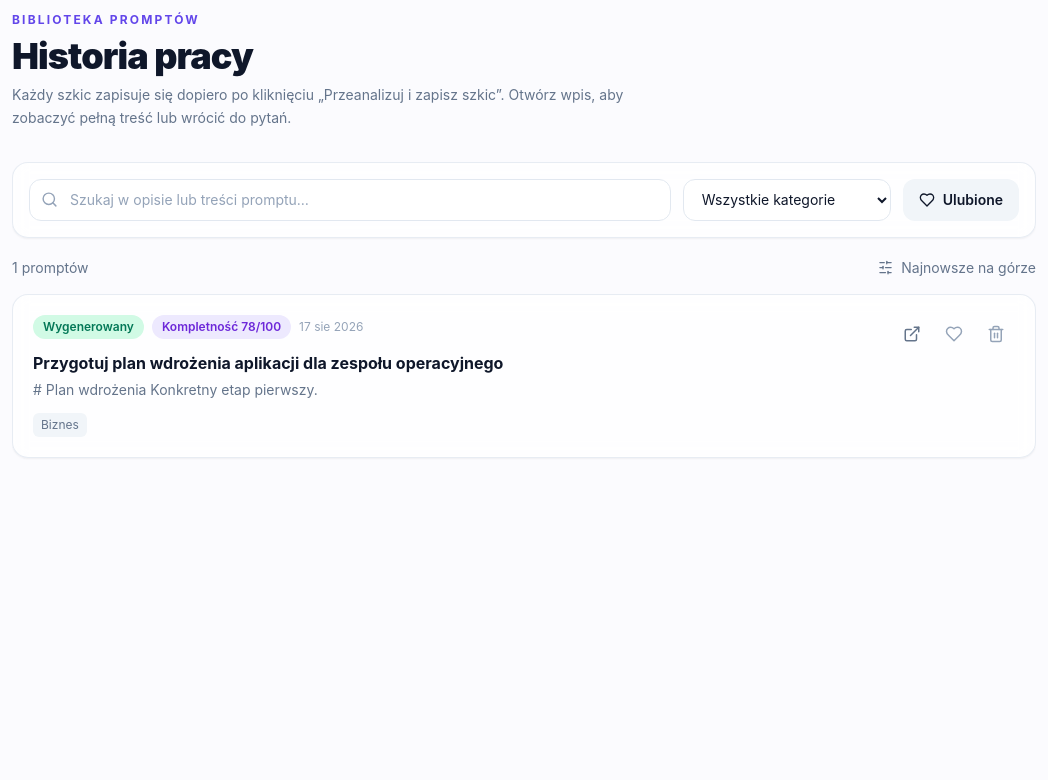
Test case: workflow promptów › usuwa wpis i odświeża historię wraz z licznikiem
The width and height of the screenshot is (1048, 780).
expect the text "1 promptów" is shown: met, box [12,258,88,278]
Step 1. Click the button named "Usuń prompt" → [996, 334], box [977,314,1015,352]
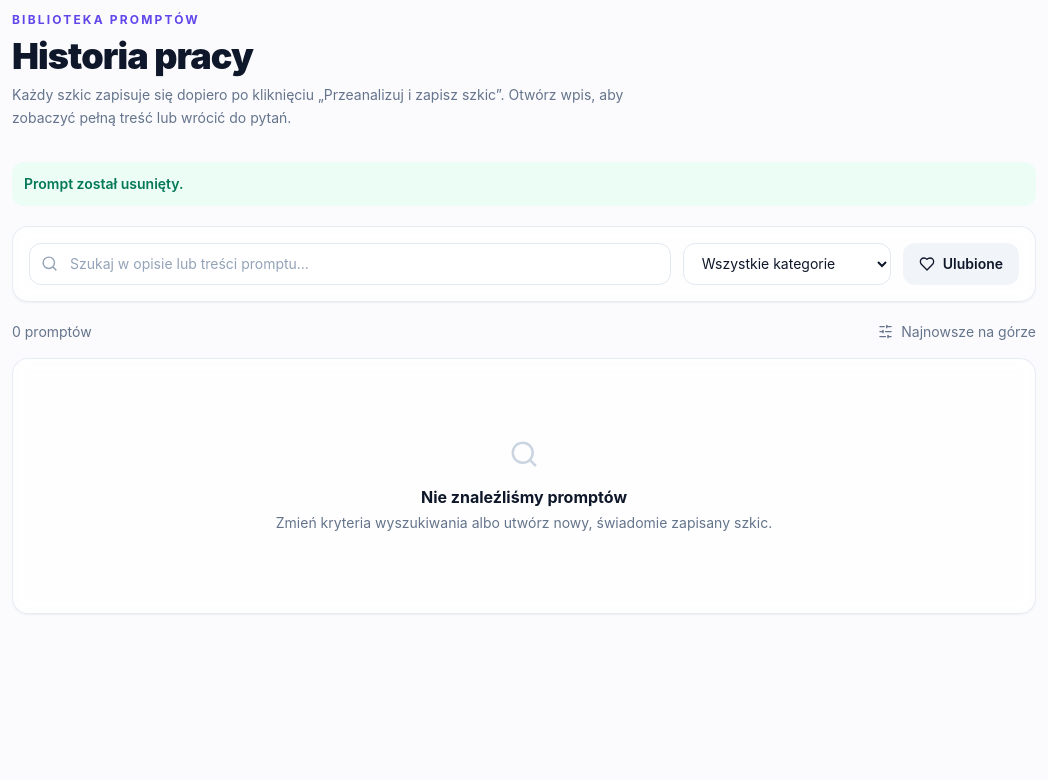
expect the text "Prompt został usunięty." is shown: met, box [12,162,1036,206]
expect the text "0 promptów" is shown: met, box [12,322,92,342]
